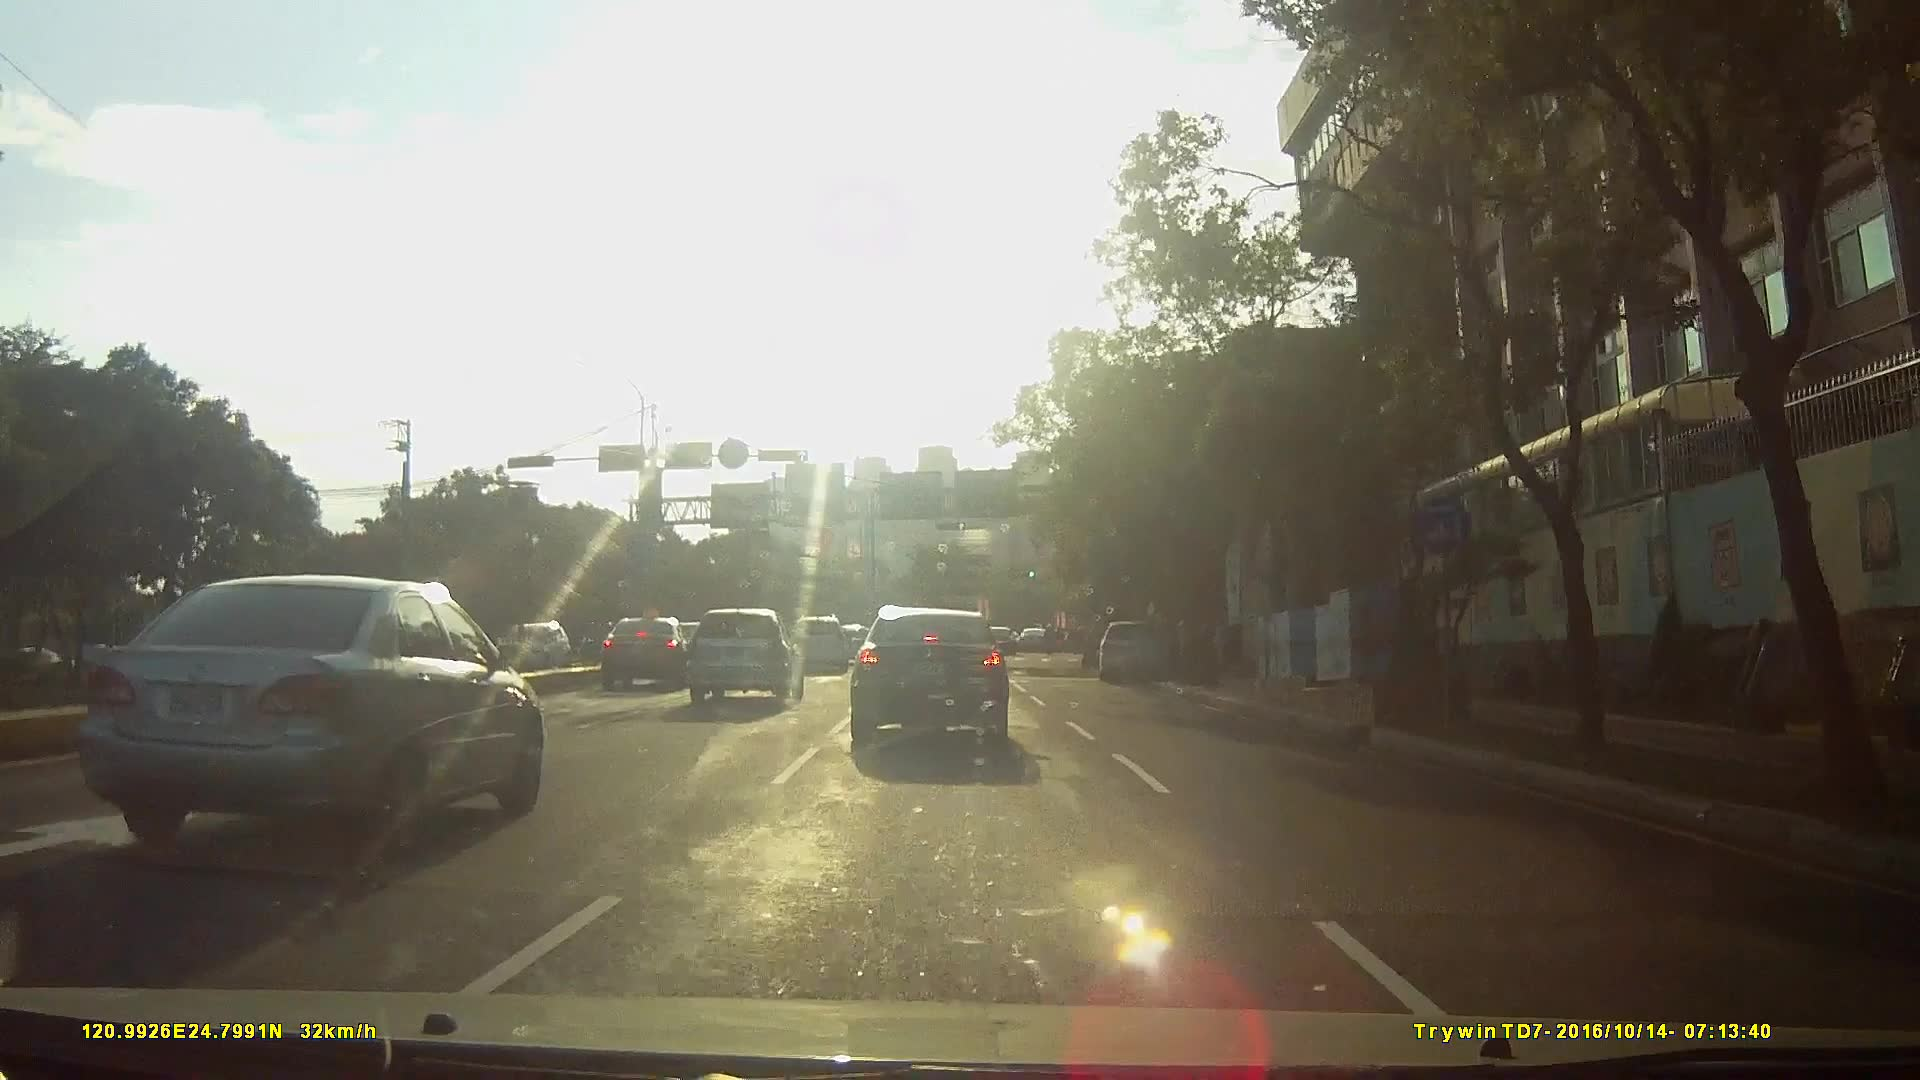vehicle: (69, 558, 553, 868), (843, 604, 1026, 766), (679, 604, 804, 705), (582, 613, 686, 692), (487, 613, 571, 675), (1101, 617, 1174, 683), (785, 613, 849, 673), (1017, 624, 1059, 651)
